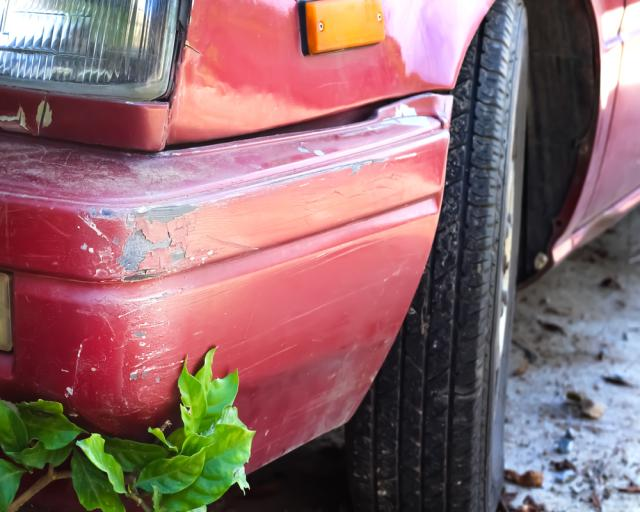scratch: (66, 202, 219, 418)
